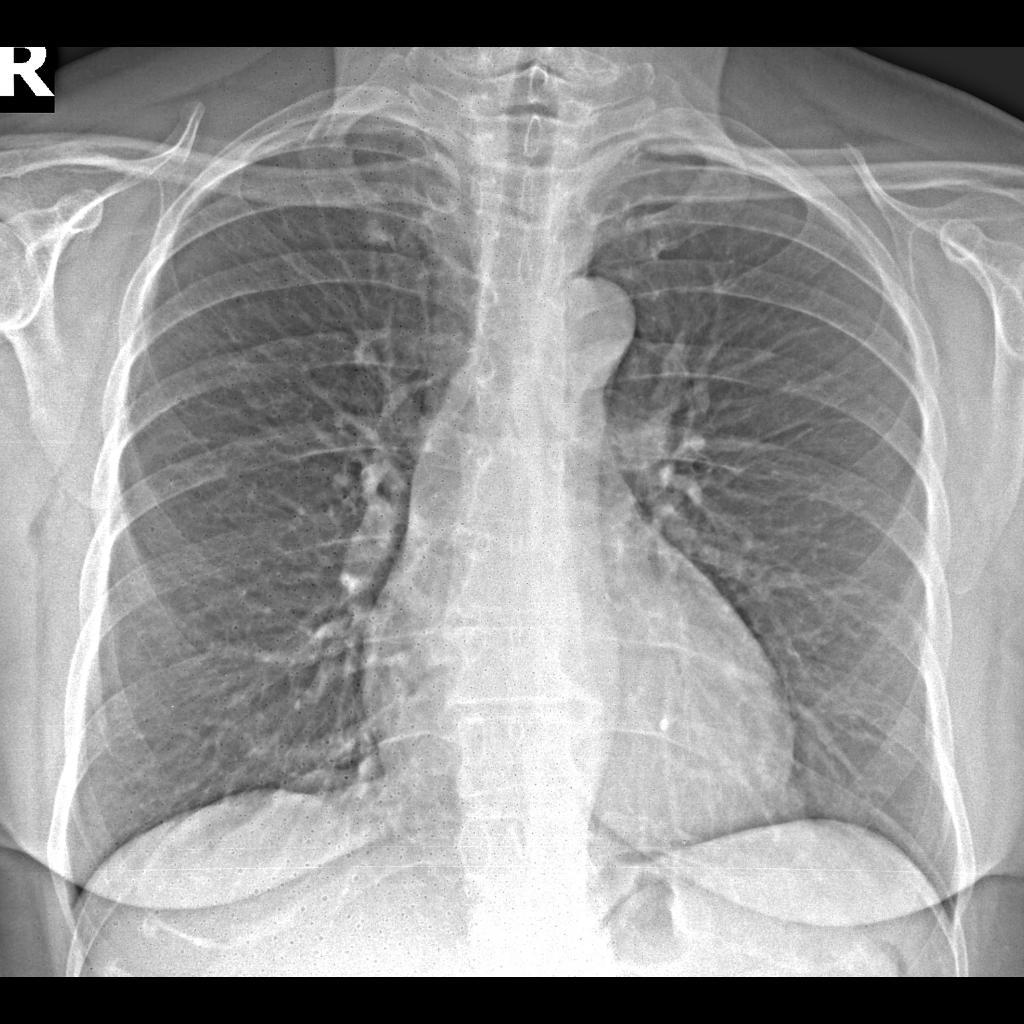Nodule: (356, 216, 397, 254)
